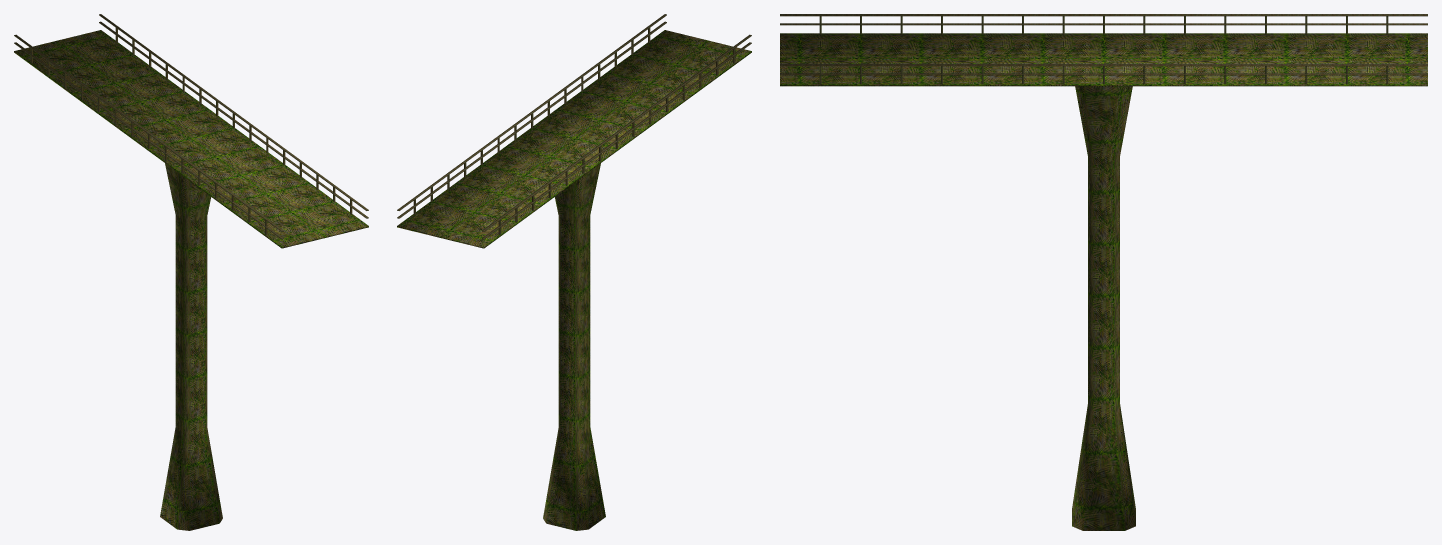
File: mbruin05.FBX
3 renders of one model, left to right at view 1: azimuth 30°, elevation 25°; view 2: azimuth 150°, elevation 25°; view 3: azimuth 270°, elevation 25°, orthographic. The views are drawn at different scales.
Visible parts, largest first — view 1: mbruin05, railing; view 2: mbruin05, railing; view 3: mbruin05, railing.
Boxes of the visible parts, left/top/right/bottom form: mbruin05: left=14, top=30, right=368, bottom=530; railing: left=14, top=14, right=368, bottom=239; mbruin05: left=397, top=30, right=751, bottom=530; railing: left=397, top=14, right=751, bottom=239; mbruin05: left=780, top=33, right=1427, bottom=530; railing: left=780, top=14, right=1427, bottom=84.
Size of what is drawn, in the model's own units: 6 by 32 by 26.05.
